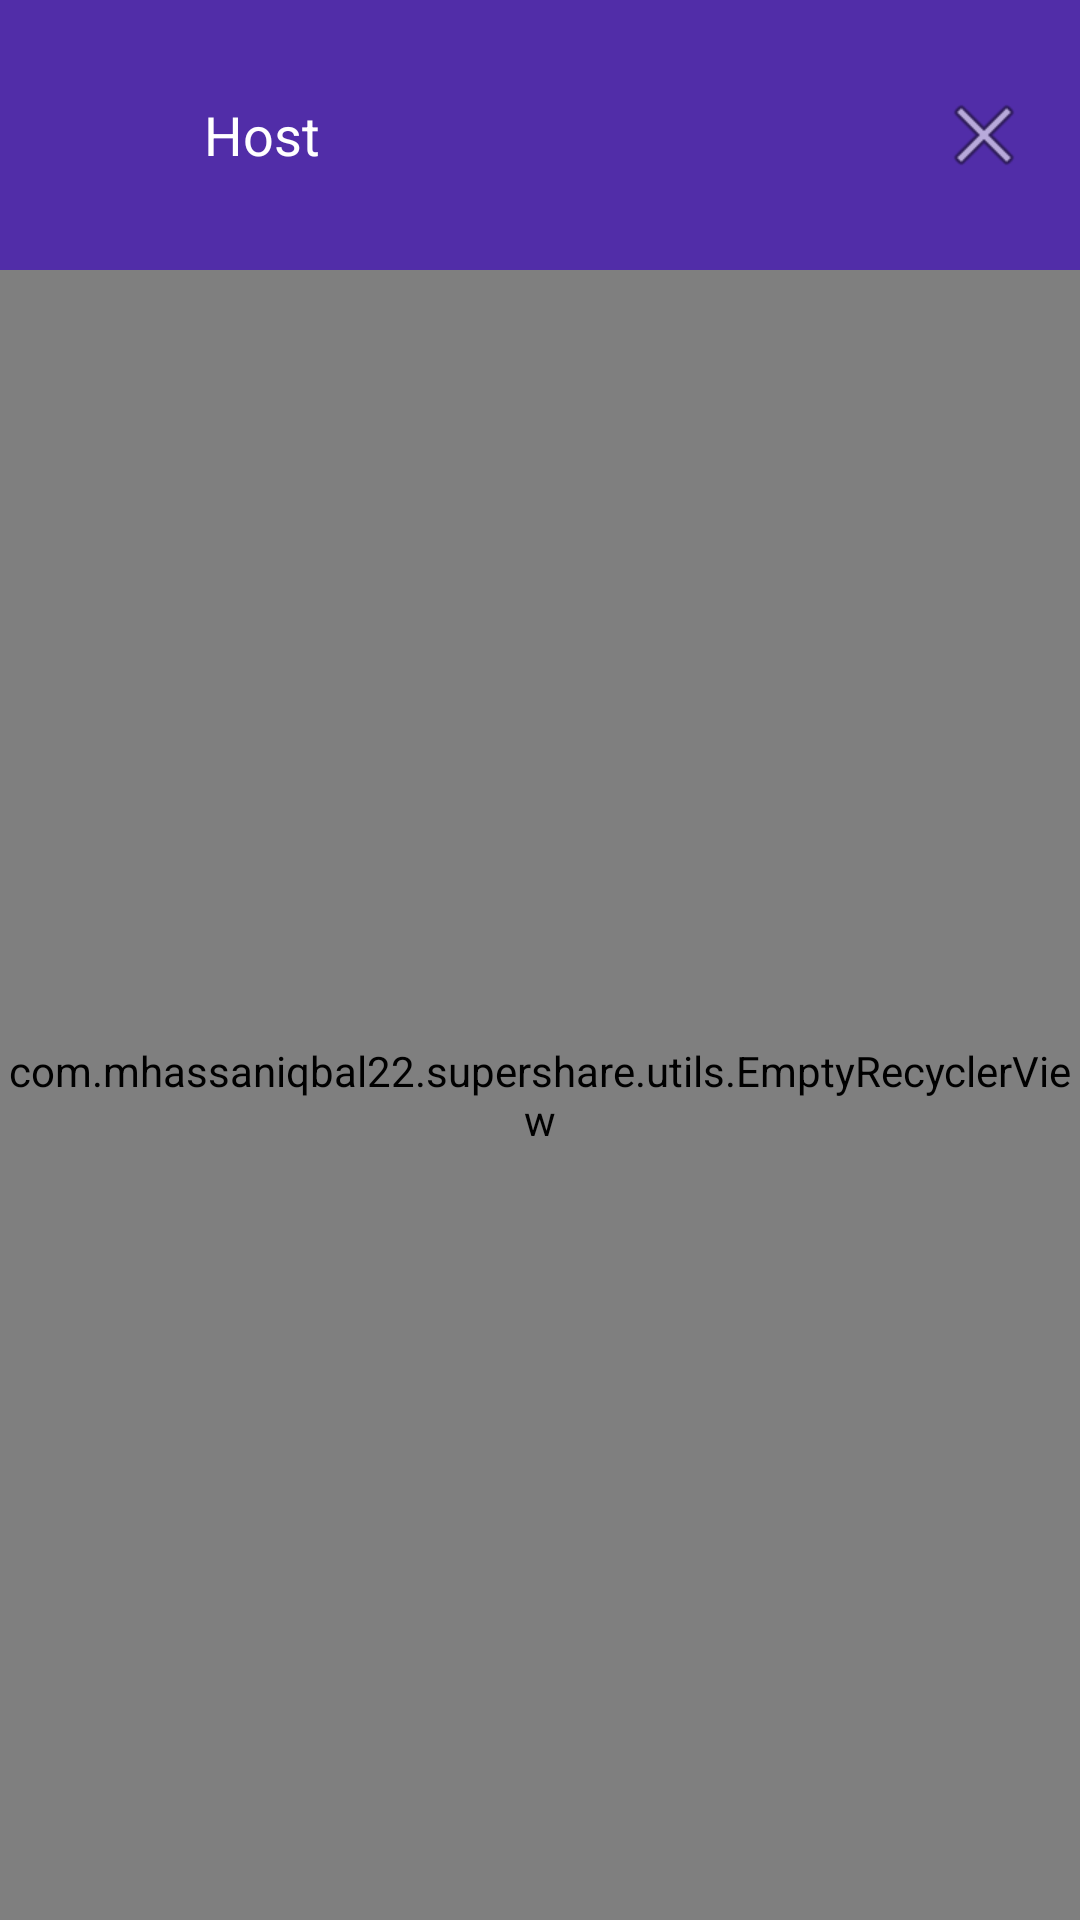

Locate icon controls on the screen. Image size 1080×1920, boxes as (x1, y1, x2, y2).
close clear cancel: (954, 105, 1014, 165)
